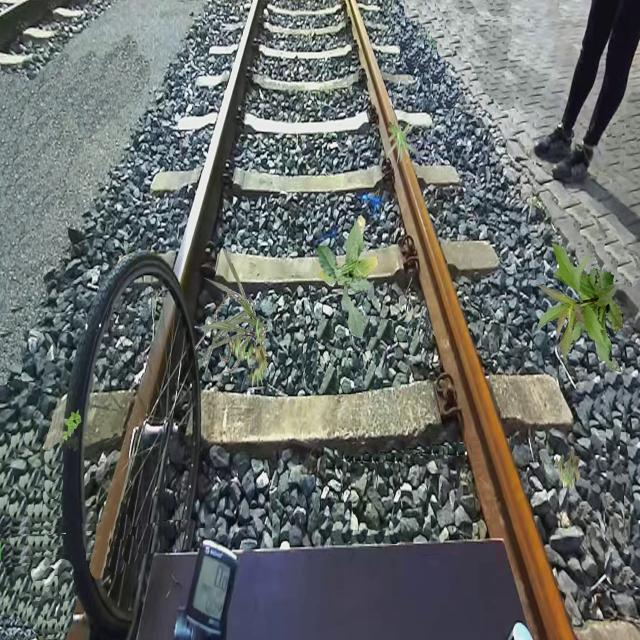Plant: (535, 243, 624, 373), (195, 249, 268, 374), (316, 214, 378, 338), (228, 317, 270, 388), (386, 121, 418, 167), (555, 449, 581, 492), (62, 408, 82, 440)
